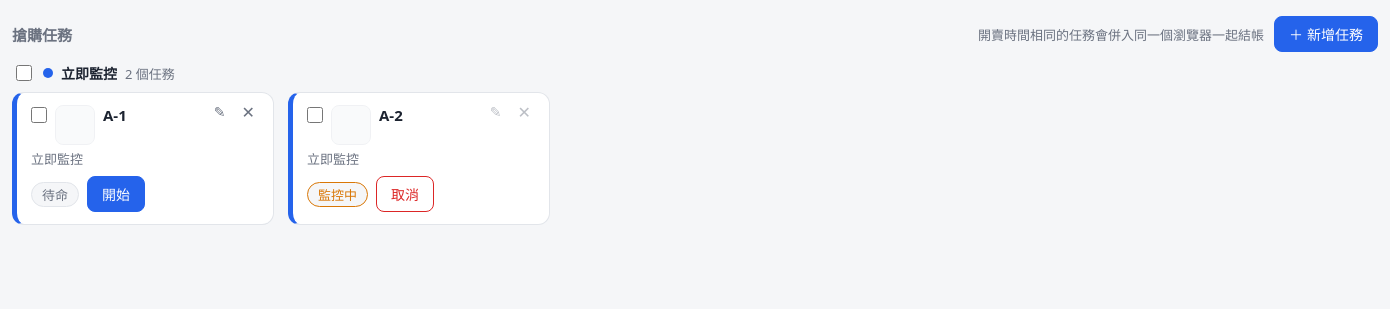
Test case: ProductGrid › only counts non-active jobs as startable and active jobs as cancellable
Click the checkbox named "選取整組" at (24, 73), box top-left (16, 65), bottom-right (32, 81)
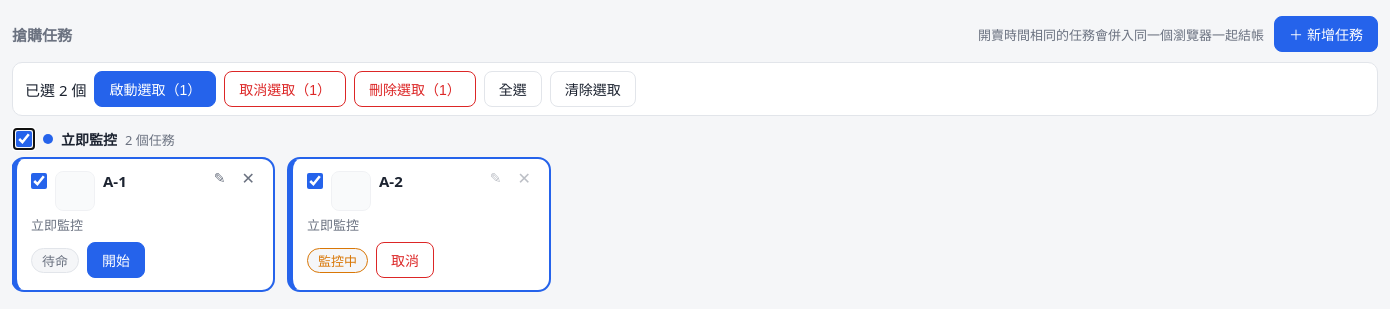
Result: the button "啟動選取（1）" is shown at top-left (94, 71), bottom-right (216, 107)
Result: the button "取消選取（1）" is shown at top-left (224, 71), bottom-right (346, 107)
